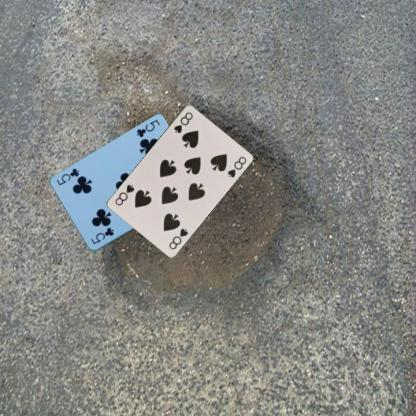5c: (134, 117, 161, 139), (88, 226, 115, 246)
8s: (166, 225, 190, 251), (171, 109, 194, 134)
